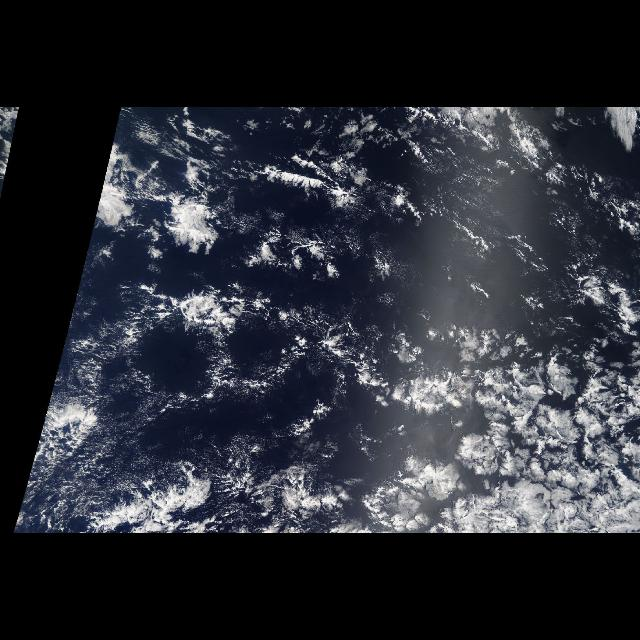Flower: (84, 140, 264, 344)
Sugar: (19, 299, 172, 509)
